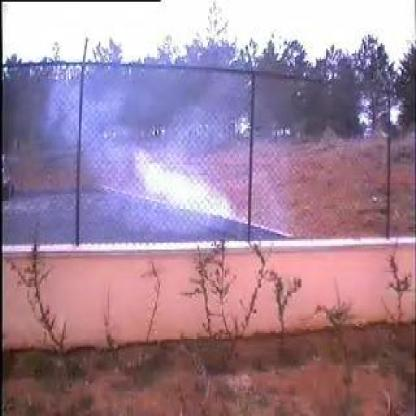-: (82, 74, 250, 240)
